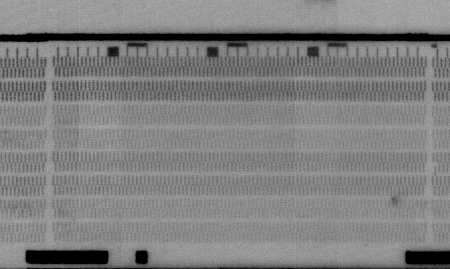Oblique printing: (430, 163, 441, 176)
